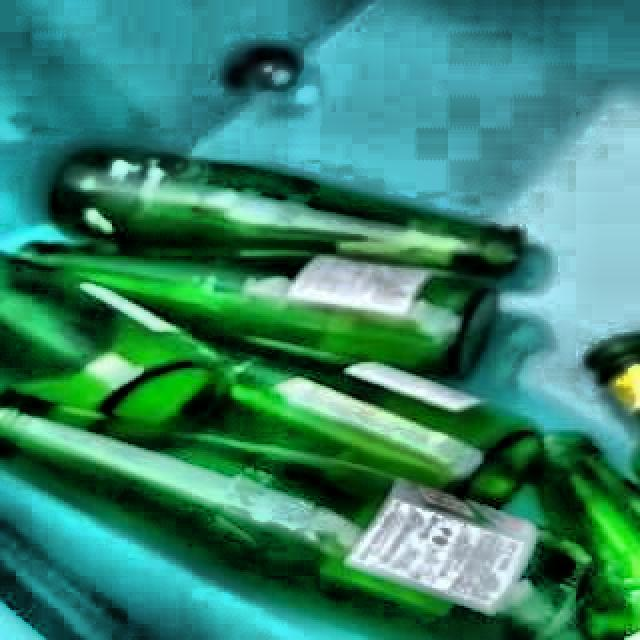glass: (0, 149, 640, 640)
